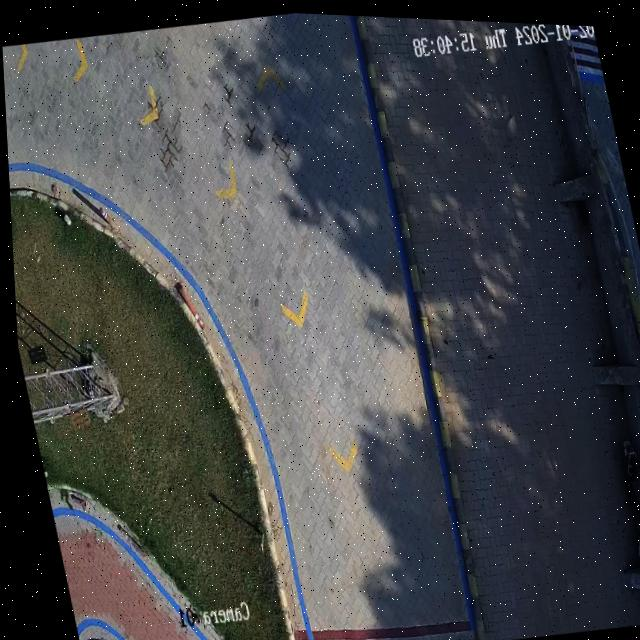No Car: (2, 10, 640, 640)
